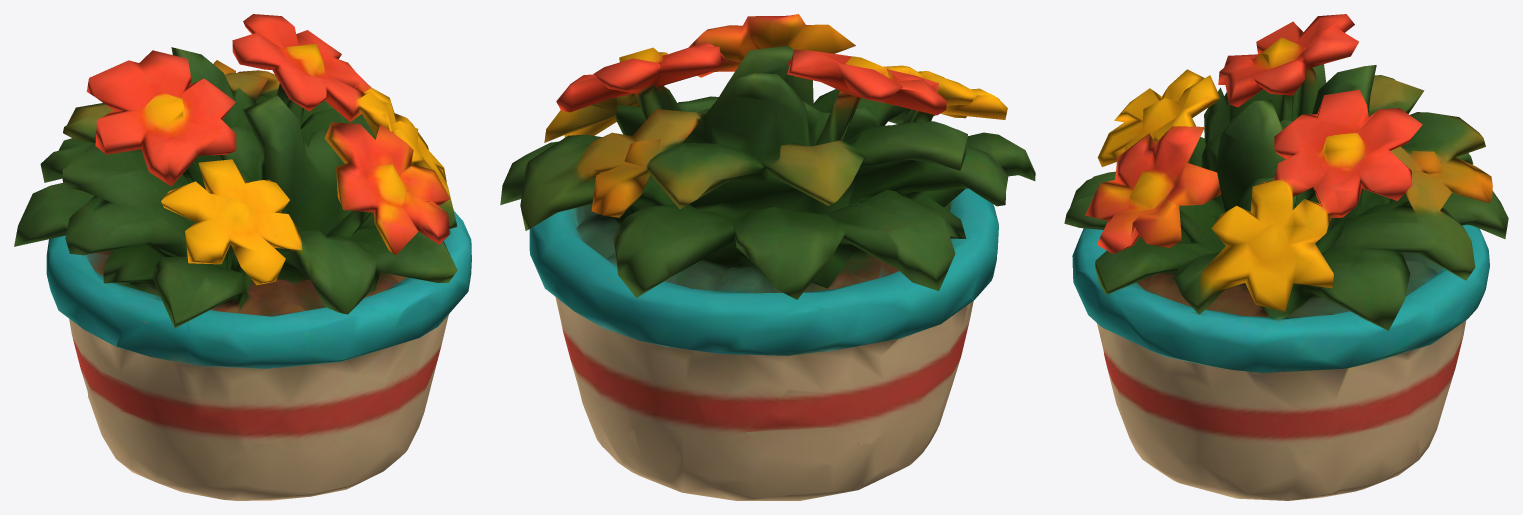
File: city-flower-planter.glb
The picture shows the model from 3 angles, left to right: view 1: azimuth 30°, elevation 25°; view 2: azimuth 150°, elevation 25°; view 3: azimuth 270°, elevation 25°; orthographic projection. The views are drawn at different scales.
Parts seen in each view (by area): view 1: city-flower-planter; view 2: city-flower-planter; view 3: city-flower-planter.
Boxes of the visible parts, x1,y1,x2,y2 form: city-flower-planter: (14,14,471,500); city-flower-planter: (500,14,1035,500); city-flower-planter: (1064,14,1508,500).
Size of the model in its own units: 0.9 by 0.8319 by 0.8941.
1 material, 1 textured.
